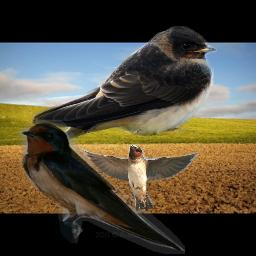Swallow: (31, 26, 217, 154), (17, 120, 185, 254), (78, 144, 200, 212)
